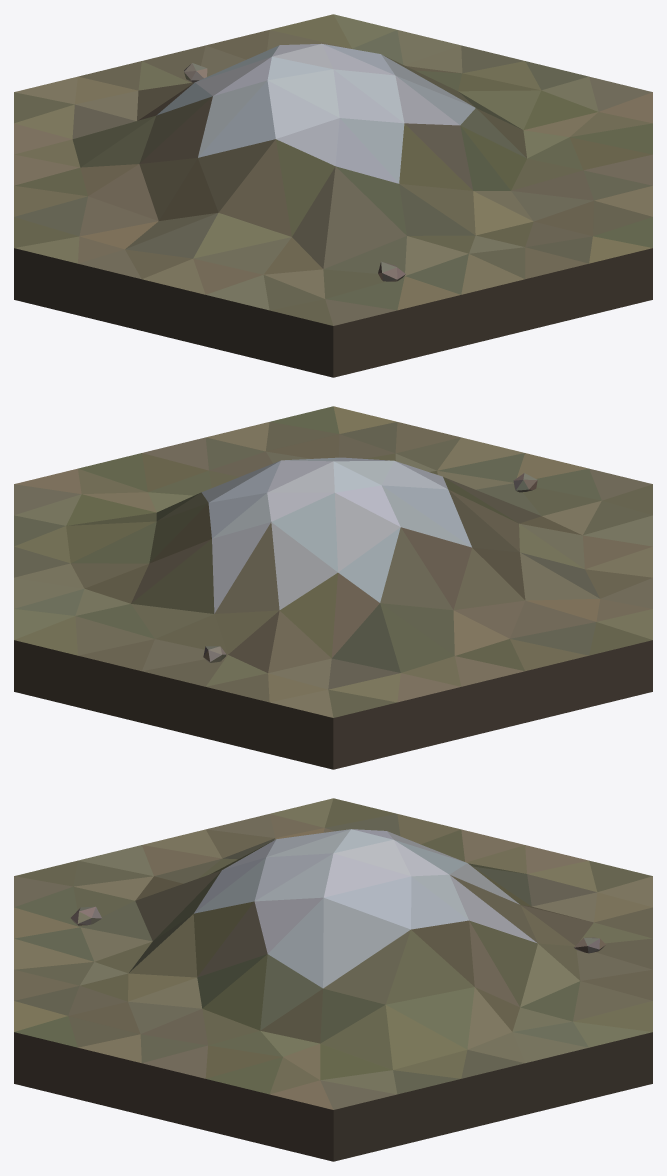
File: Tundra Hill.glb
3 views of the same model, one above another, from view 1: azimuth 30°, elevation 25°; view 2: azimuth 150°, elevation 25°; view 3: azimuth 270°, elevation 25° (orthographic).
Visible parts, largest first — view 1: Tundra Hill; view 2: Tundra Hill; view 3: Tundra Hill.
Part boxes in pixels (left/top/right/bottom): Tundra Hill: left=14, top=14, right=652, bottom=377; Tundra Hill: left=14, top=406, right=652, bottom=769; Tundra Hill: left=14, top=798, right=652, bottom=1161.
Size of the model in its own units: 1.94 by 0.4425 by 1.68.
